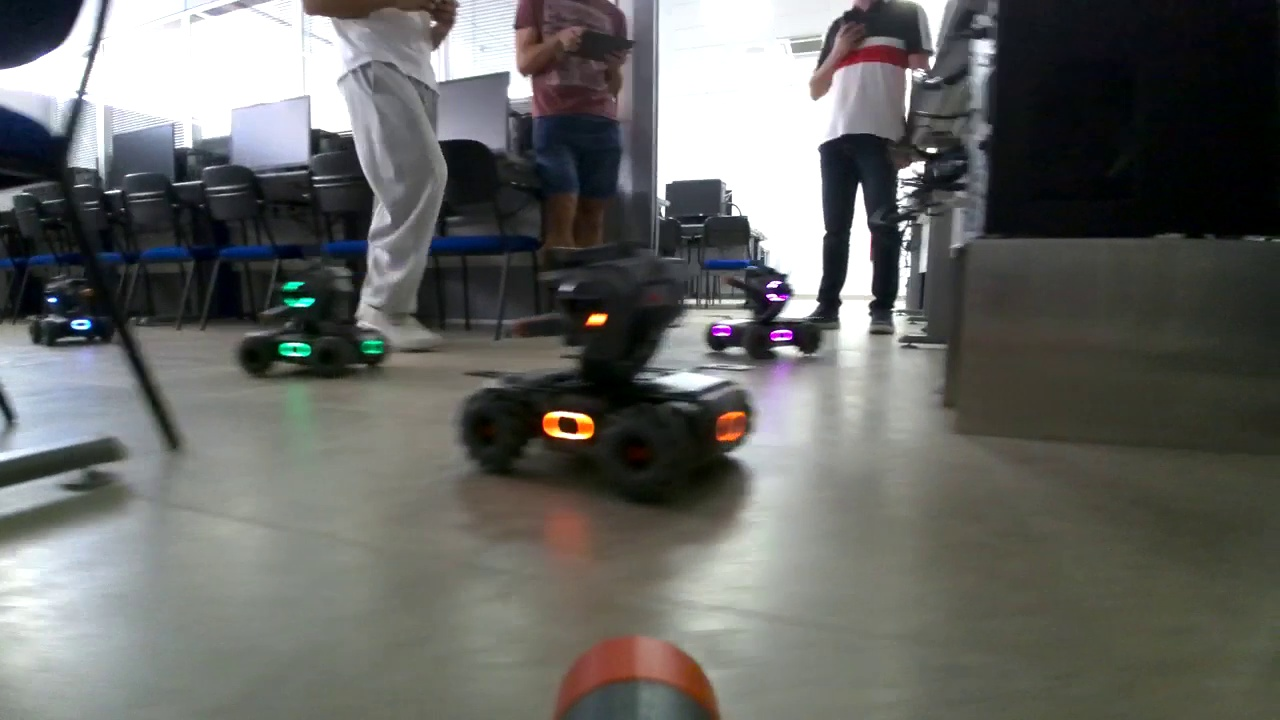robot: (457, 248, 756, 500), (234, 263, 392, 375), (708, 263, 822, 362), (26, 270, 114, 345)
